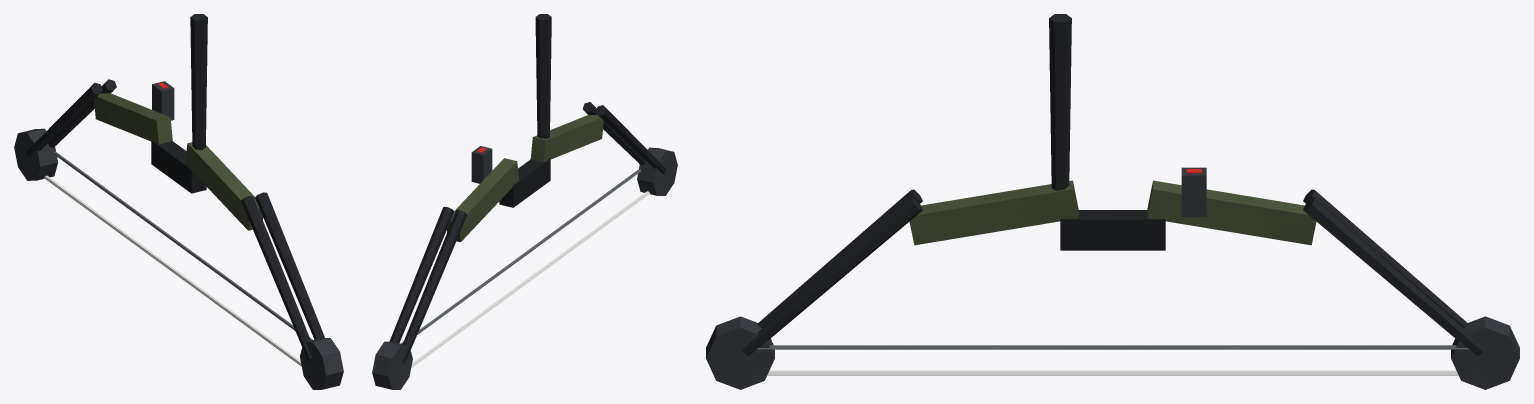
The model's file is weapon_compound_bow.glb.
3 renders of one model, left to right at view 1: azimuth 30°, elevation 25°; view 2: azimuth 150°, elevation 25°; view 3: azimuth 270°, elevation 25°, orthographic. The views are drawn at different scales.
Visible parts, largest first — view 1: Weapon_CompoundBow; view 2: Weapon_CompoundBow; view 3: Weapon_CompoundBow.
Part boxes in pixels (left/top/right/bottom): Weapon_CompoundBow: left=14, top=14, right=343, bottom=389; Weapon_CompoundBow: left=372, top=14, right=677, bottom=389; Weapon_CompoundBow: left=706, top=14, right=1519, bottom=389.
Bounding box in the file's own units: 0.0528 × 0.423 × 0.852.
7 materials, 5 textured.
